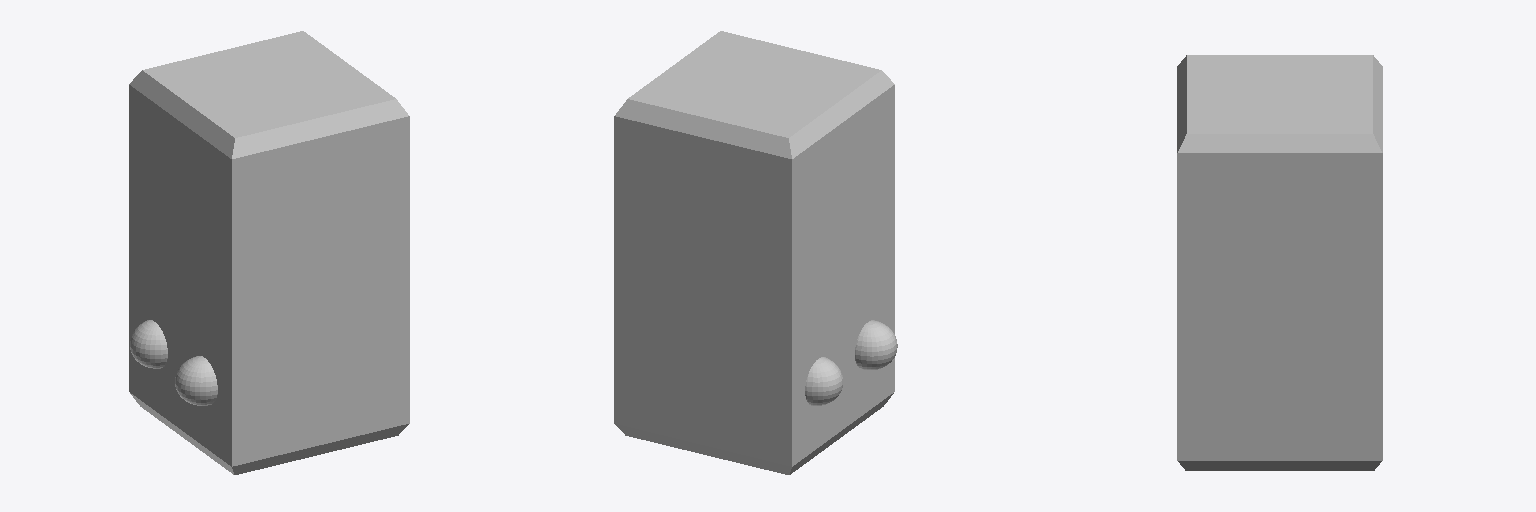
Rendered from Guimauve.obj.
The picture shows the model from 3 angles: view 1: azimuth 30°, elevation 25°; view 2: azimuth 150°, elevation 25°; view 3: azimuth 270°, elevation 25°; orthographic projection.
Parts seen in each view (by area): view 1: Cube, Sphere, Sphere.001; view 2: Cube, Sphere, Sphere.001; view 3: Cube.
Part boxes in pixels (left/top/right/bottom): Cube: left=129, top=31, right=409, bottom=474; Sphere: left=175, top=356, right=217, bottom=405; Sphere.001: left=130, top=320, right=167, bottom=368; Cube: left=614, top=31, right=894, bottom=474; Sphere: left=855, top=320, right=897, bottom=369; Sphere.001: left=805, top=357, right=842, bottom=405; Cube: left=1177, top=55, right=1382, bottom=470.
Bounding box in the file's own units: 2.3 × 3.62 × 2.